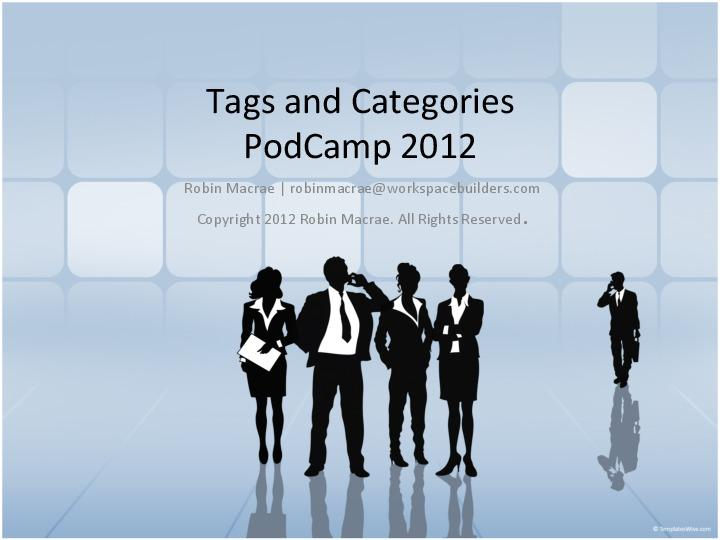title: (197, 69, 535, 171)
